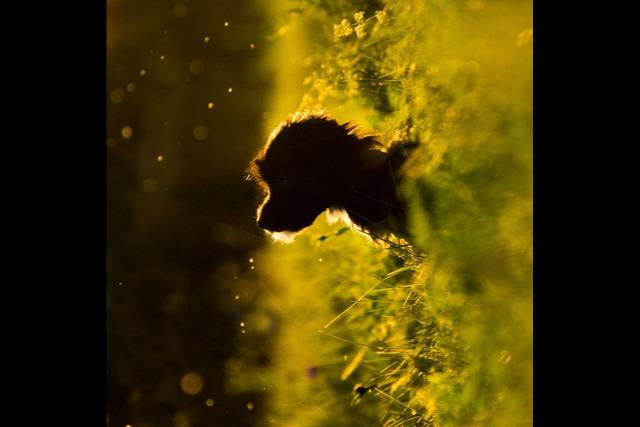Non_Gorille: (150, 23, 490, 342)
